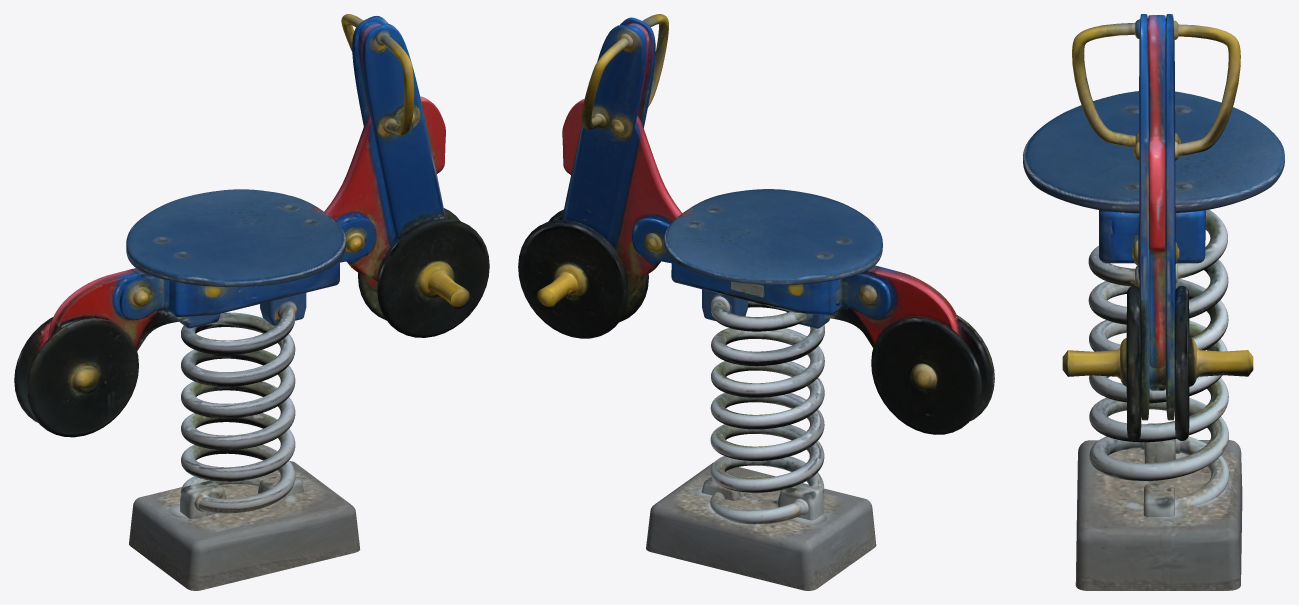
The model's file is sf-playground-motorcycle-3d-scan-bc170e.glb.
The picture shows the model from 3 angles, left to right: view 1: azimuth 30°, elevation 25°; view 2: azimuth 150°, elevation 25°; view 3: azimuth 270°, elevation 25°; orthographic projection. The views are drawn at different scales.
Parts seen in each view (by area): view 1: Object_3; view 2: Object_3; view 3: Object_3.
Part boxes in pixels (x1,y1,x2,y2): Object_3: (14, 14, 489, 590); Object_3: (518, 14, 994, 590); Object_3: (1023, 14, 1284, 590).
Bounding box in the file's own units: 2.86 × 2.93 × 1.15.
1 material, 1 textured.
